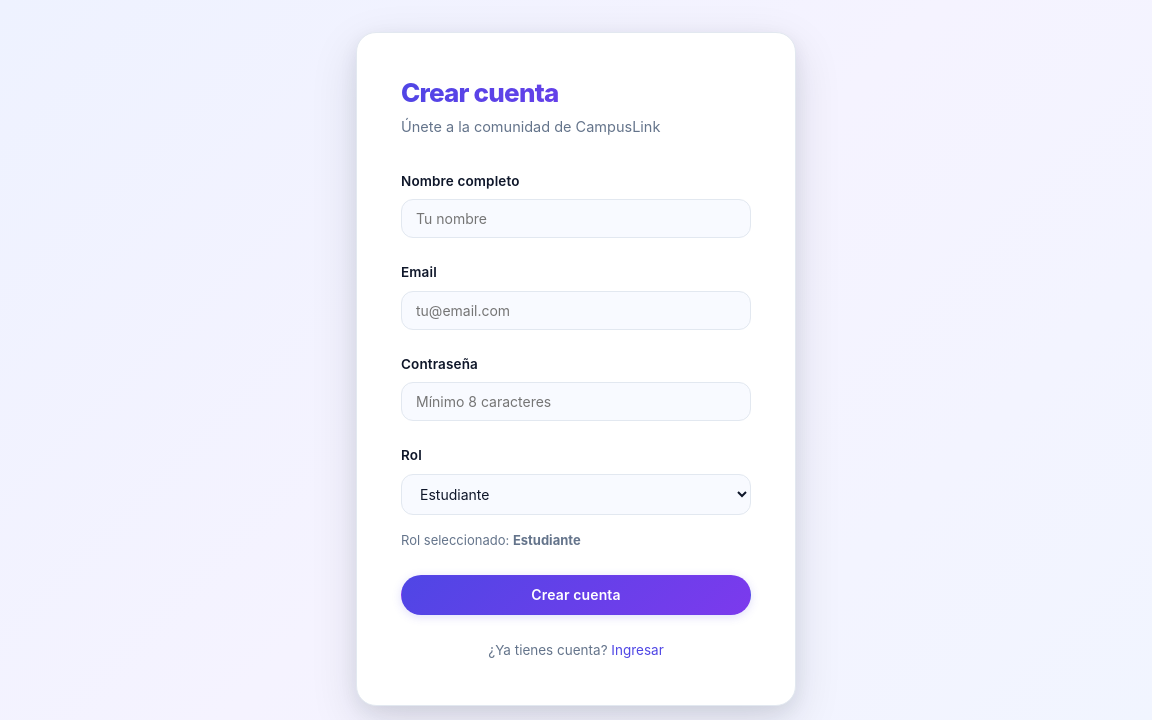
Test case: RegisterPage › shows backend validation messages
Type "Ana" into the field with test id "register-name". click: (576, 219)
box: 401,199 -> 751,238
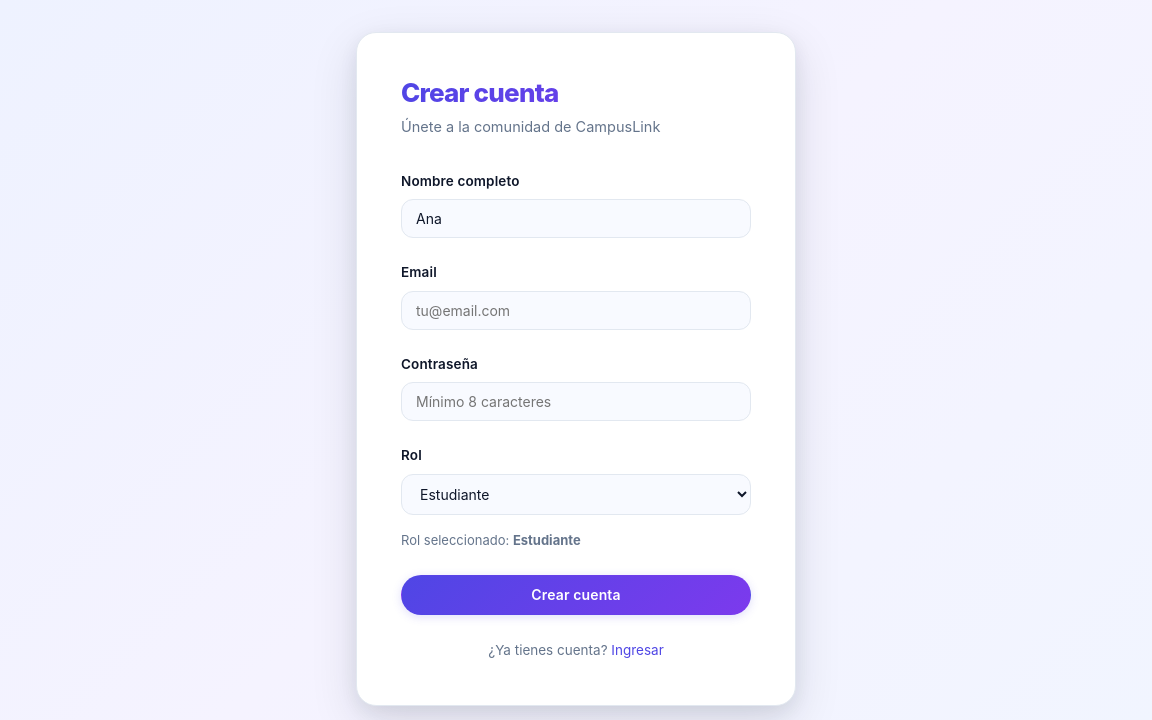
Type "ana@test.com" into the field with test id "register-email". click: (576, 310)
box: 401,291 -> 751,330
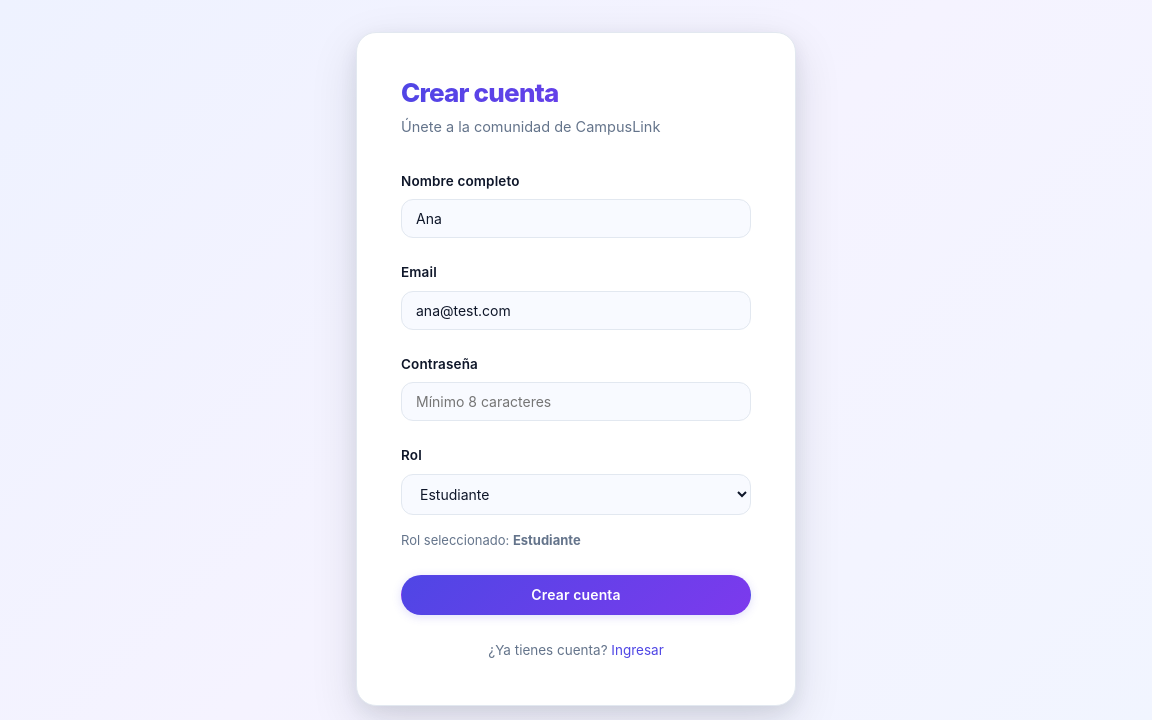
Type "Password123!" into the password field with test id "register-password". click: (576, 402)
box: 401,382 -> 751,421
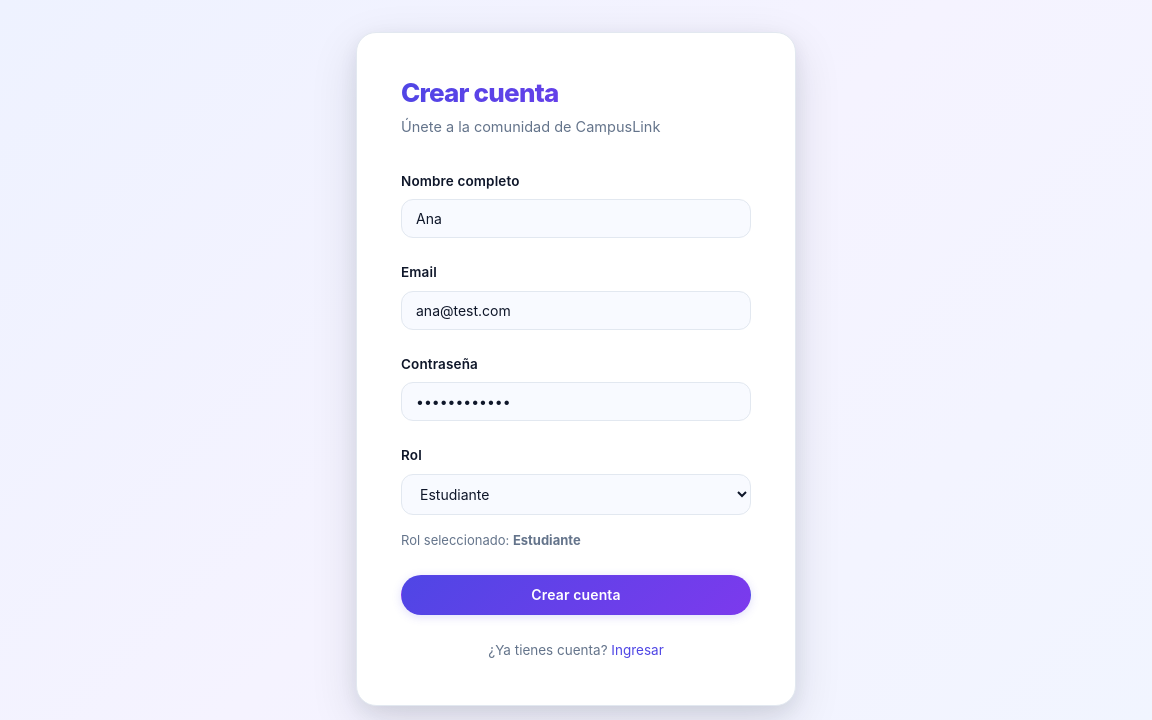
Click the button with test id "btn-register". click: (576, 595)
box: 401,575 -> 751,615
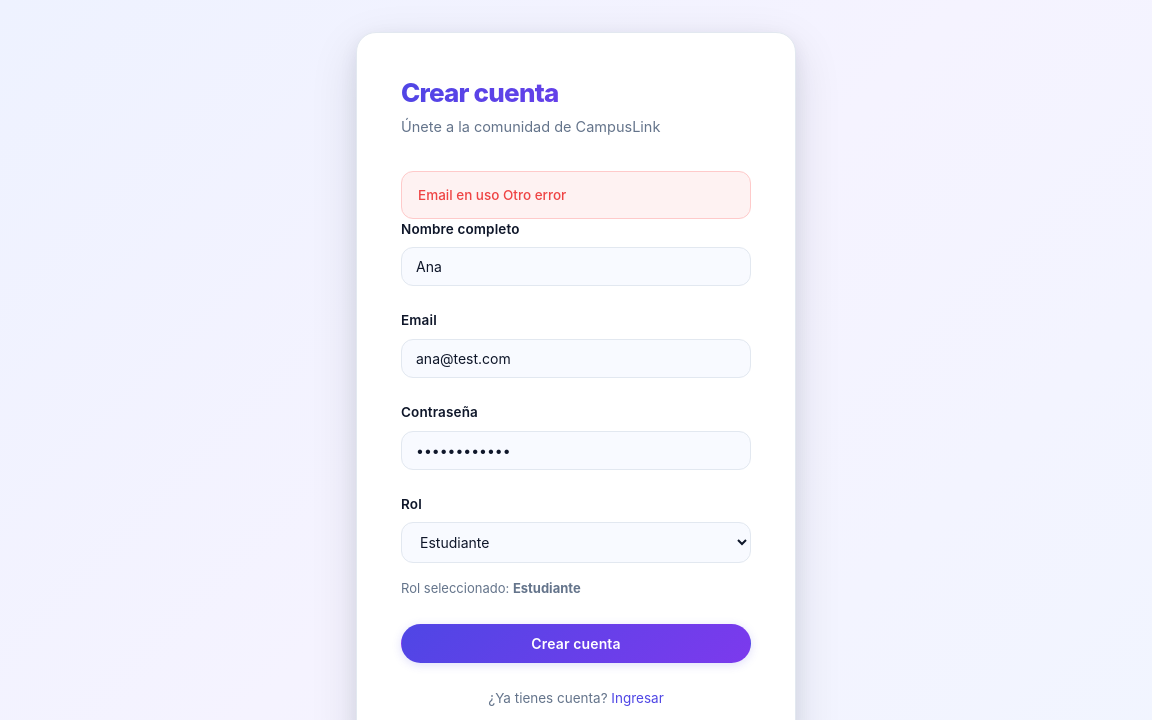
Now the message reads "Email en uso Otro error", box 418,186 -> 566,202
